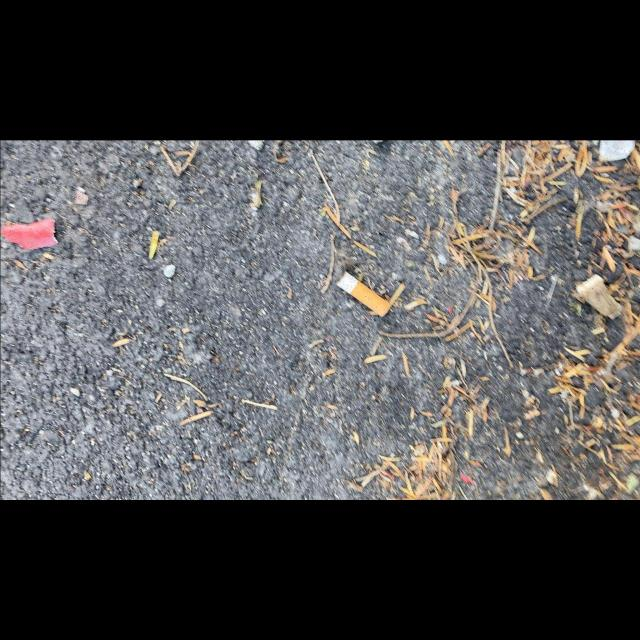cigarette: (336, 270, 390, 317)
